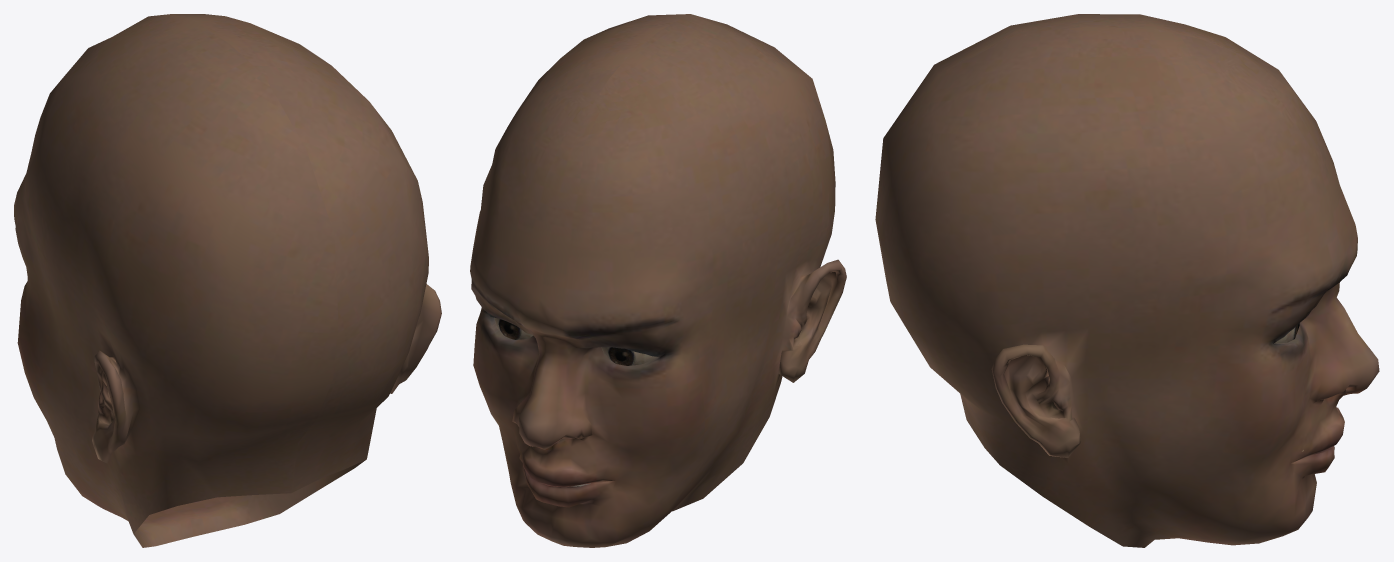
The model's file is G3_Head_Hero_Babe_Animated_01_S00.obj.
3 renders of one model, left to right at view 1: azimuth 30°, elevation 25°; view 2: azimuth 150°, elevation 25°; view 3: azimuth 270°, elevation 25°, orthographic. The views are drawn at different scales.
Visible parts, largest first — view 1: G3_Animation_Head_Woman_01; view 2: G3_Animation_Head_Woman_01; view 3: G3_Animation_Head_Woman_01.
Part boxes in pixels (<box>): G3_Animation_Head_Woman_01: <box>14,14,441,547</box>; G3_Animation_Head_Woman_01: <box>470,14,846,547</box>; G3_Animation_Head_Woman_01: <box>875,14,1379,547</box>.
Bounding box in the file's own units: 0.173 × 0.259 × 0.2342.
